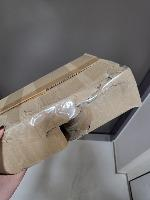damaged package: (47, 62, 120, 144)
undamaged: (0, 49, 145, 178)
